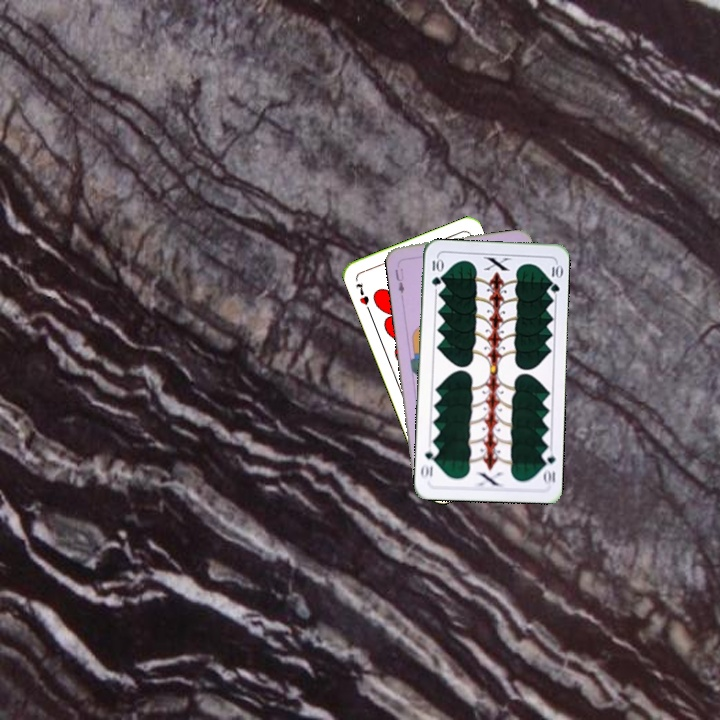EU: (391, 264, 407, 296)
G10: (538, 446, 558, 487), (428, 254, 444, 288)
H7: (351, 278, 372, 308)
